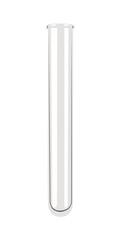Test tube: (30, 8, 93, 213)
